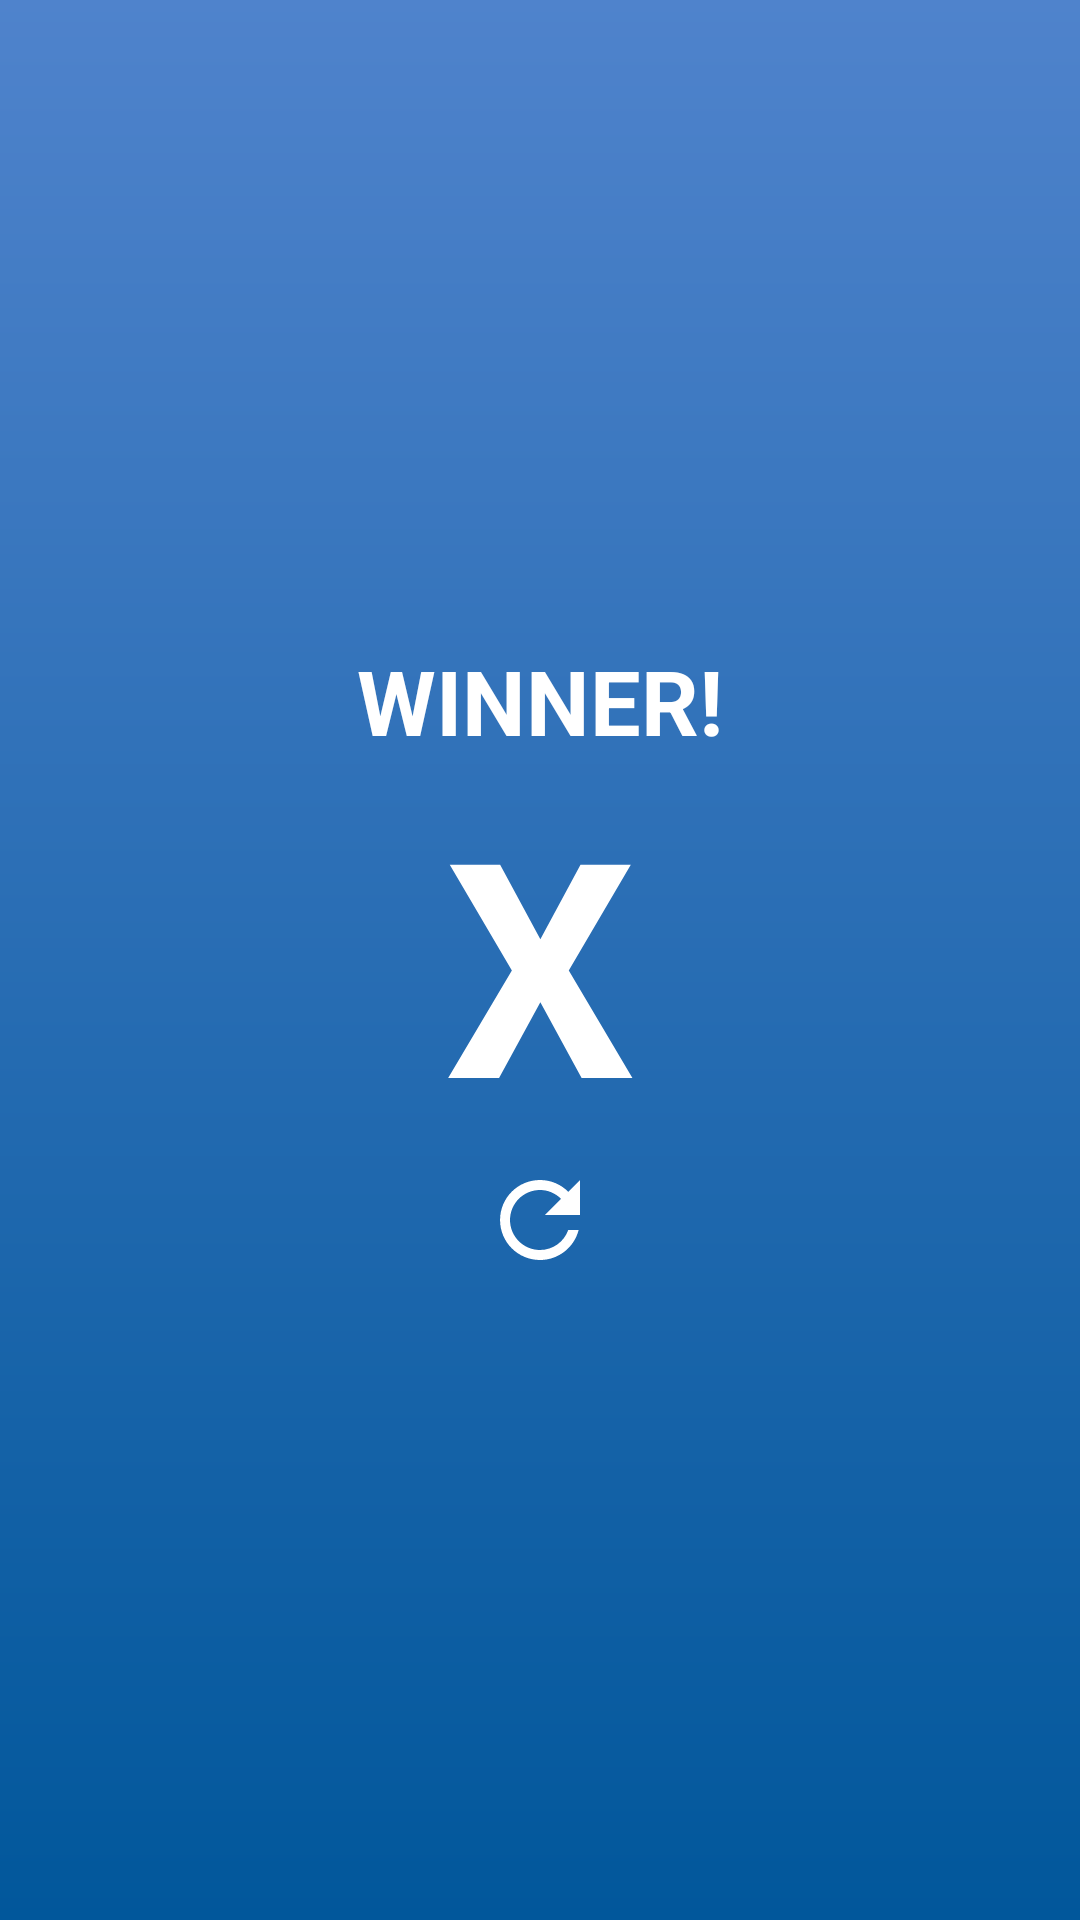

Icon click points for this 1080 x 1920 phone screenshot, format [x,y]:
Restarting: [540,1220]
